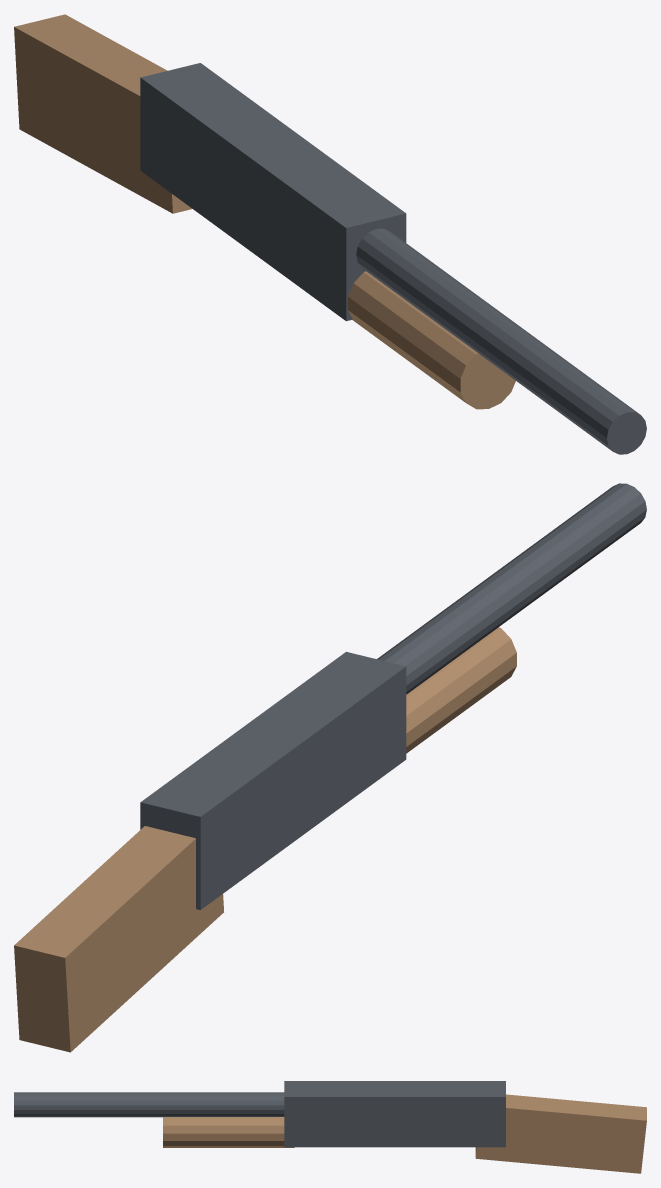
The model's file is wpn_pshotgun.glb.
3 renders of one model, top to bottom at view 1: azimuth 30°, elevation 25°; view 2: azimuth 150°, elevation 25°; view 3: azimuth 270°, elevation 25°, orthographic. The views are drawn at different scales.
Visible parts, largest first — view 1: wpn_pshotgun; view 2: wpn_pshotgun; view 3: wpn_pshotgun.
Part boxes in pixels (x1,y1,x2,y2): wpn_pshotgun: (14,14,646,454); wpn_pshotgun: (14,483,646,1052); wpn_pshotgun: (14,1081,646,1173).
Bounding box in the file's own units: 0.054 × 0.1243 × 0.9136.
